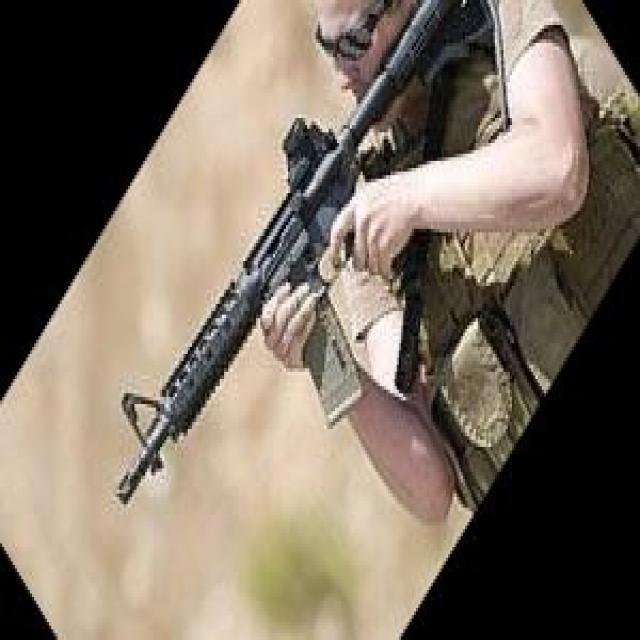weapon: (115, 0, 495, 508)
